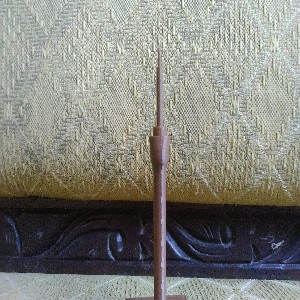solder: (148, 46, 171, 300)
